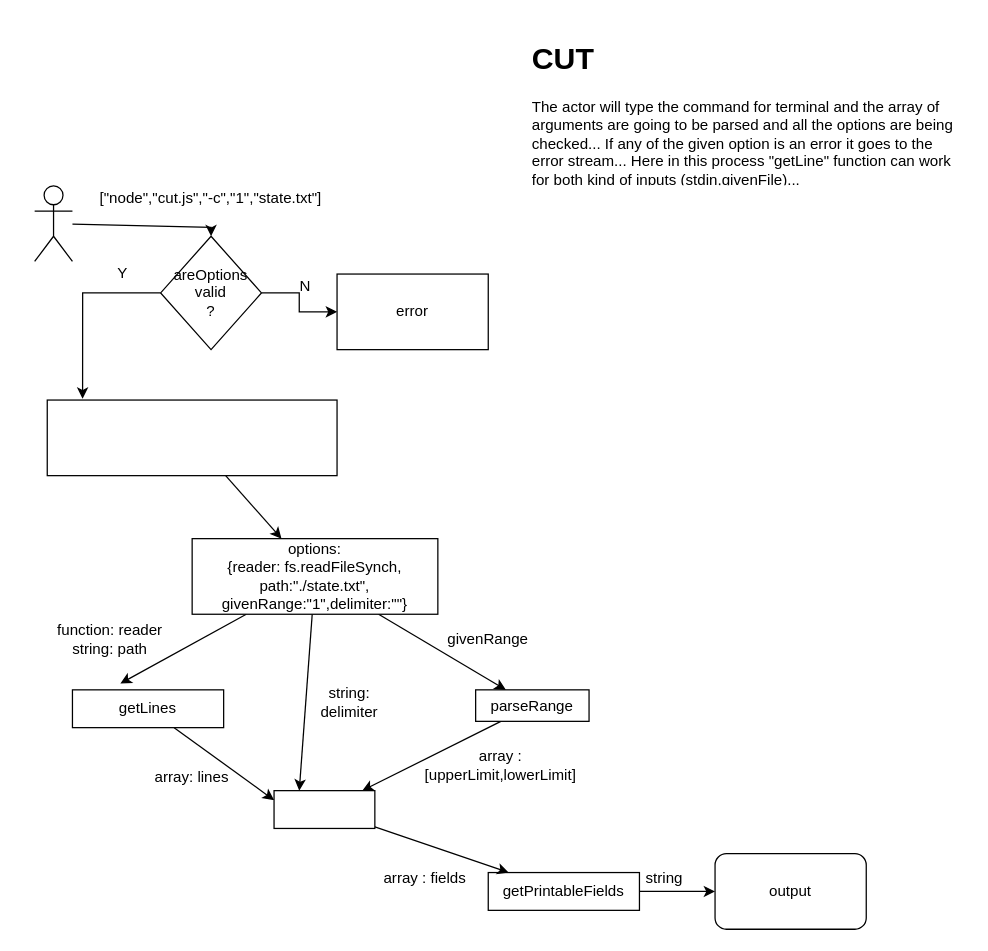
The diagram is 988 pixels wide and 951 high, and some of its shapes have lost their labels. The centre of each missing label's shape, as x and y in pixels:
"Actor" goes at point 52,223.
"getFields" goes at point 324,808.
"parseOptions" goes at point 191,437.
